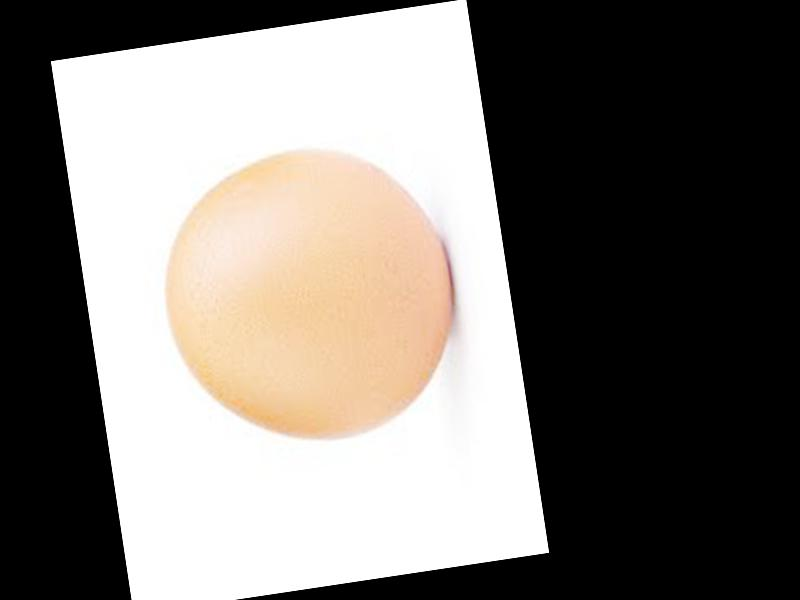Eggs: (150, 132, 469, 459)
